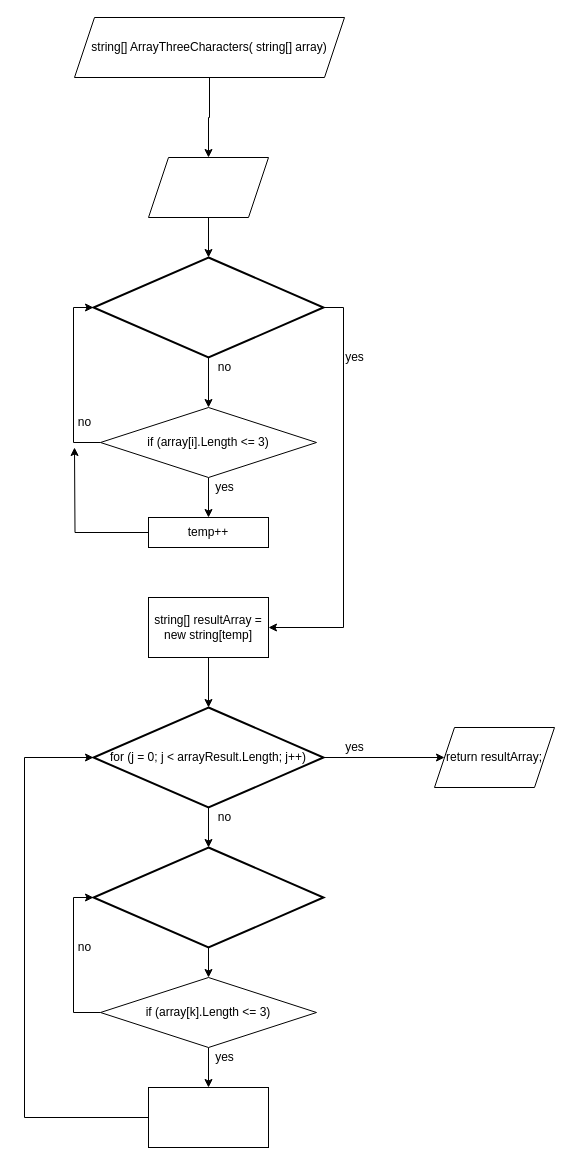
Image size: 572x1165. Some labels were removed from this diagram. The shapes that lost their labels are listed below. From the top down, each one's centre as x and y in pixels, then its label:
At pixel 208 187: "int temp = 0;".
At pixel 208 307: "for (i = 0; i < array.Length; i++)".
At pixel 208 897: "for (k = 0; k < array.Length; k++)".
At pixel 208 1117: "arrayResult[j] = array[k] j++".
